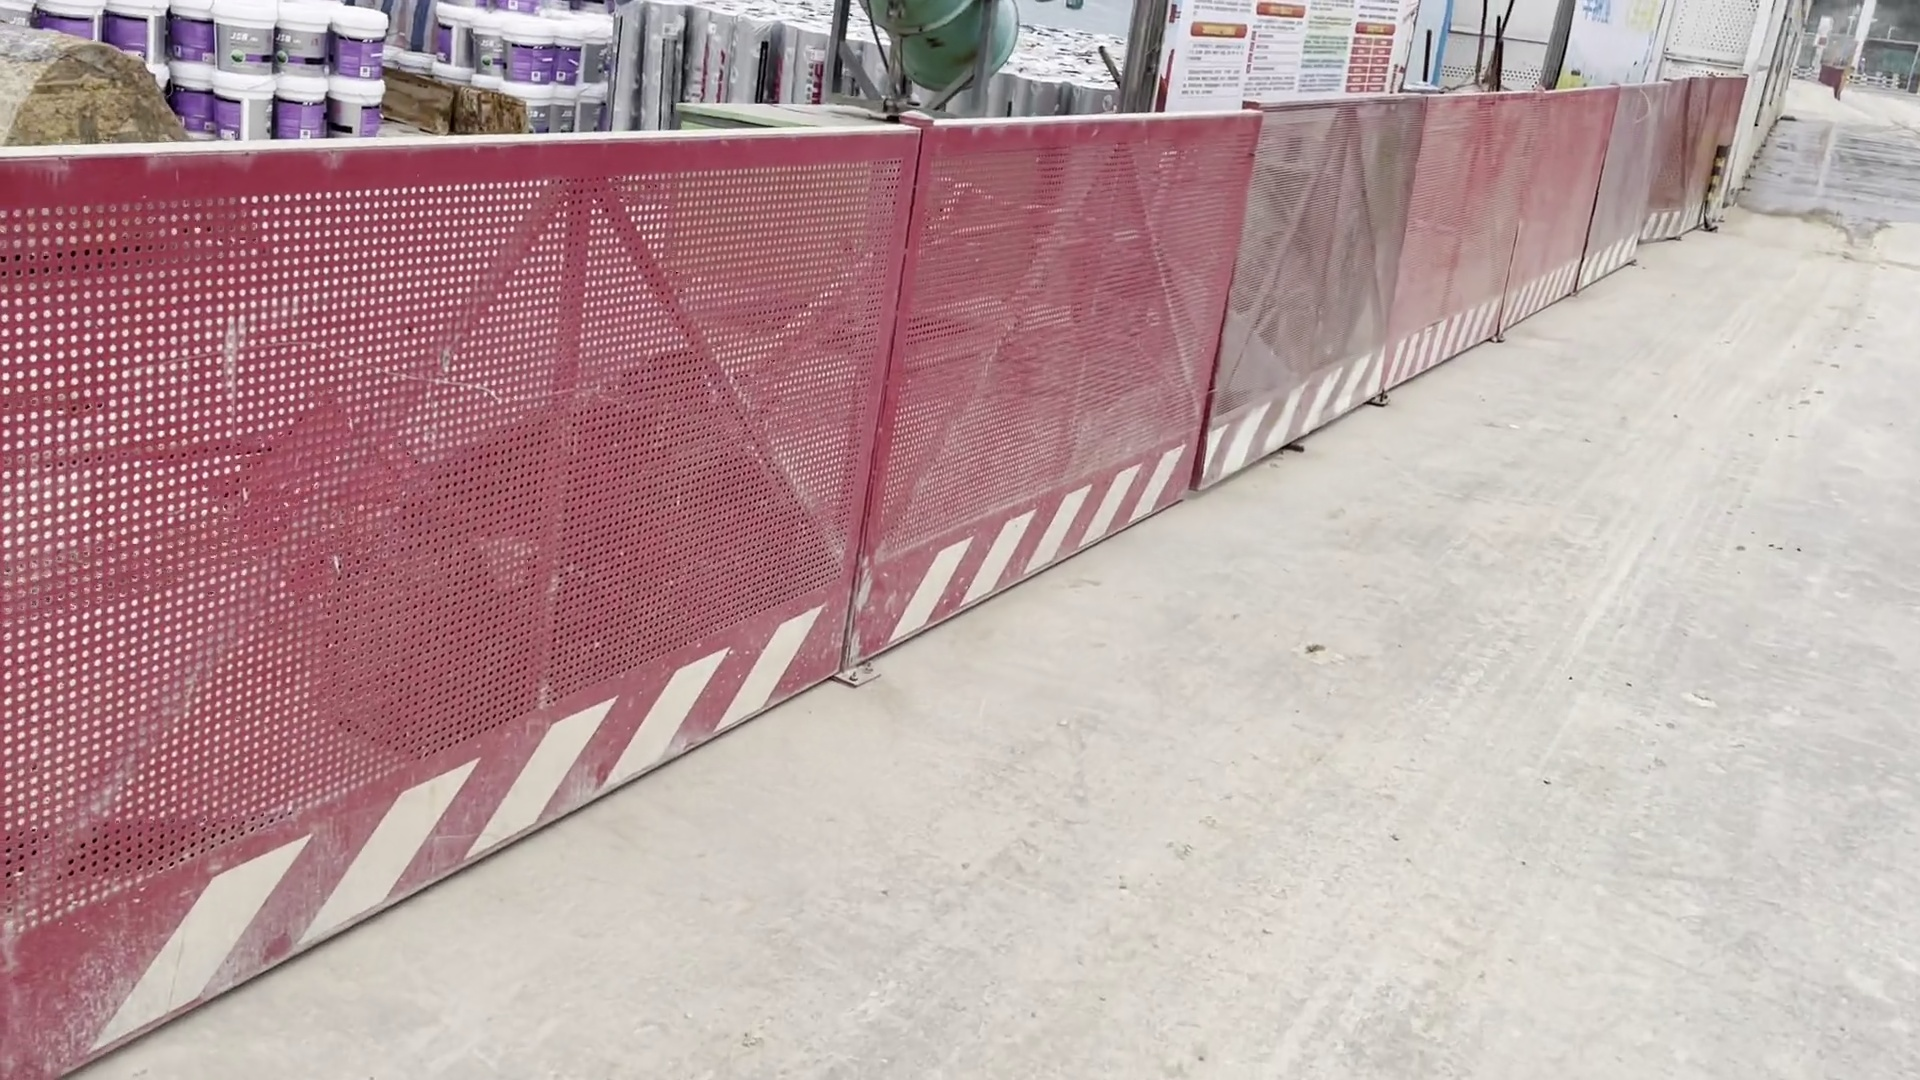fence: (4, 51, 1749, 1055)
